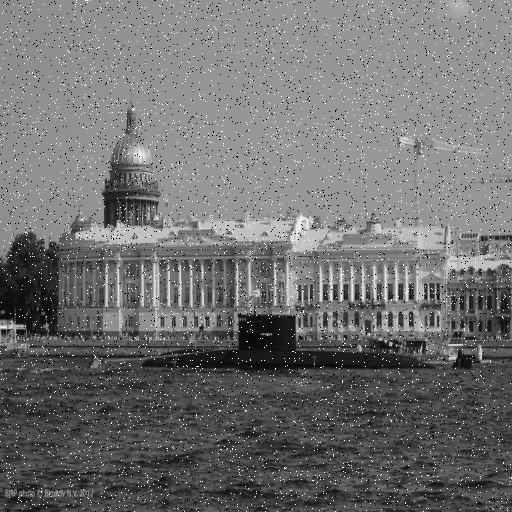submarine: (141, 315, 445, 368)
